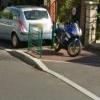Motorcycle: (52, 17, 92, 61)
